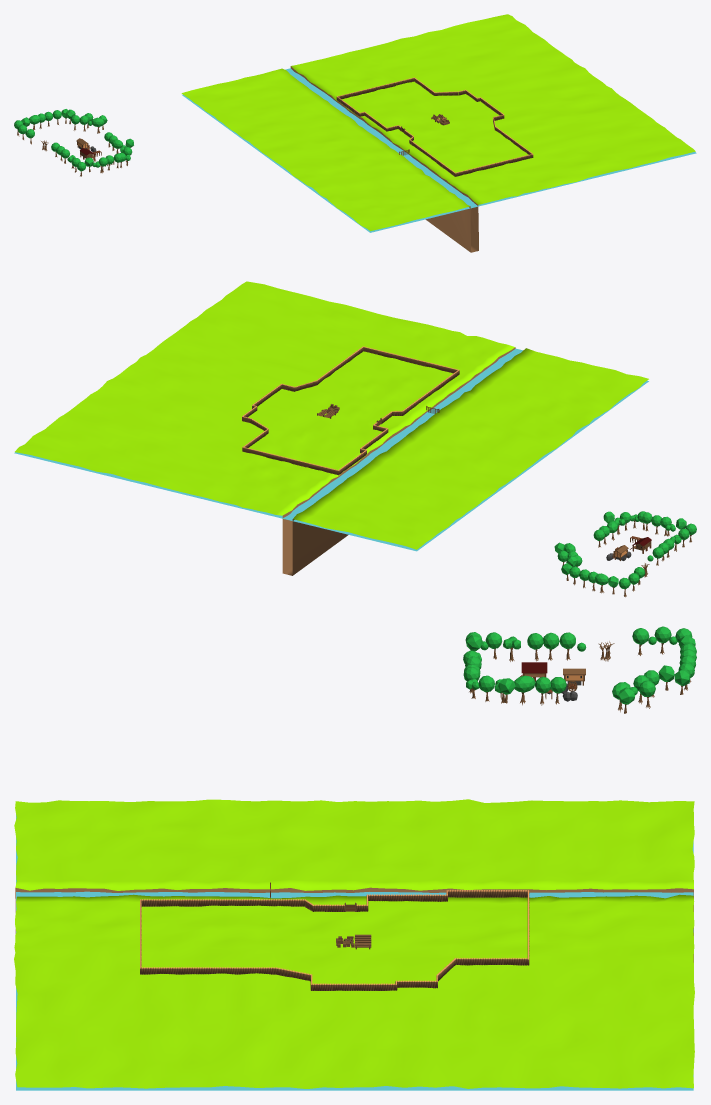
File: Environment.fbx
3 renders of one model, top to bottom at view 1: azimuth 30°, elevation 25°; view 2: azimuth 150°, elevation 25°; view 3: azimuth 270°, elevation 25°, orthographic. The views are drawn at different scales.
Visible parts, largest first — view 1: Plane, Plane.001; view 2: Plane, Plane.001, Wall.018, Wall.002; view 3: Plane, Plane.001, Wall.001, Wall.003.
Boxes of the visible parts, x1,y1,x2,y2 form: Plane: (181,14,695,252); Plane.001: (182,68,696,232); Plane: (15,281,648,575); Plane.001: (14,348,648,551); Wall.018: (242,447,338,475); Wall.002: (363,346,459,374); Plane: (14,799,694,1088); Plane.001: (16,815,693,1090); Wall.001: (141,899,304,906); Wall.003: (141,967,275,974).
Bounding box in the file's own units: 91643 × 11163 × 60459.
